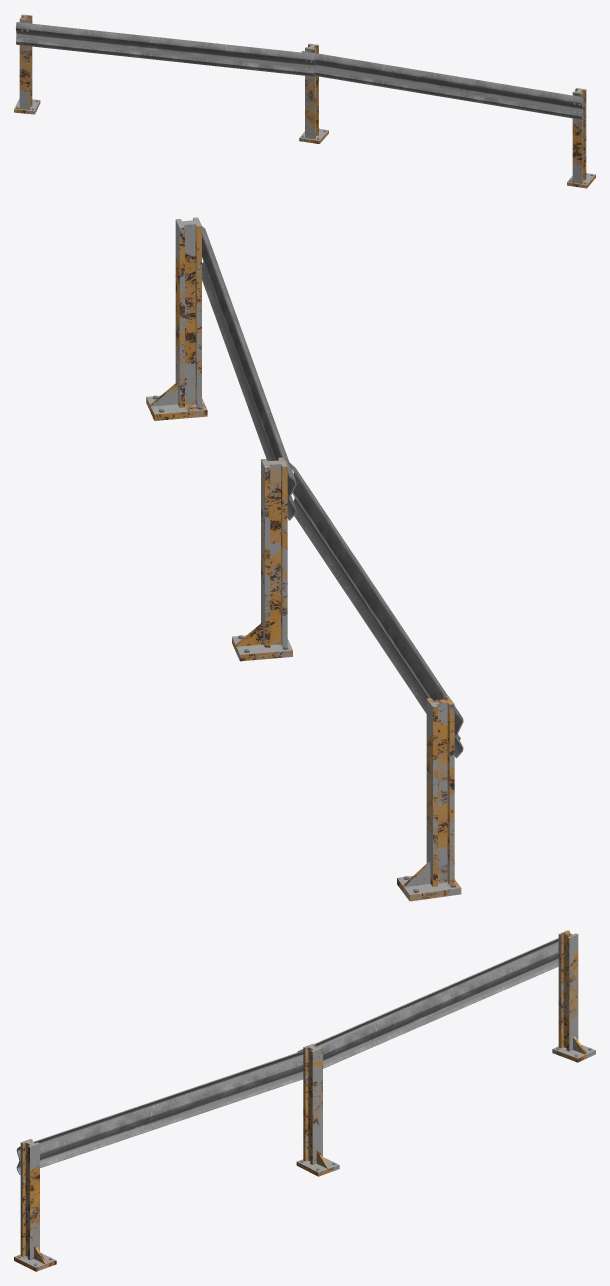
File: road_fence1.obj
The picture shows the model from 3 angles, top to bottom: view 1: azimuth 30°, elevation 25°; view 2: azimuth 150°, elevation 25°; view 3: azimuth 270°, elevation 25°; orthographic projection. The views are drawn at different scales.
Visible parts, largest first — view 1: Bridge_safety_fence_meshId0_name; view 2: Bridge_safety_fence_meshId0_name; view 3: Bridge_safety_fence_meshId0_name.
Boxes of the visible parts, box(x1,y1,x2,y2) form: Bridge_safety_fence_meshId0_name: box(14, 14, 595, 188); Bridge_safety_fence_meshId0_name: box(146, 217, 463, 901); Bridge_safety_fence_meshId0_name: box(14, 930, 595, 1271).
Bounding box in the file's own units: 2.63 × 0.6341 × 2.85.
1 material, 1 textured.
